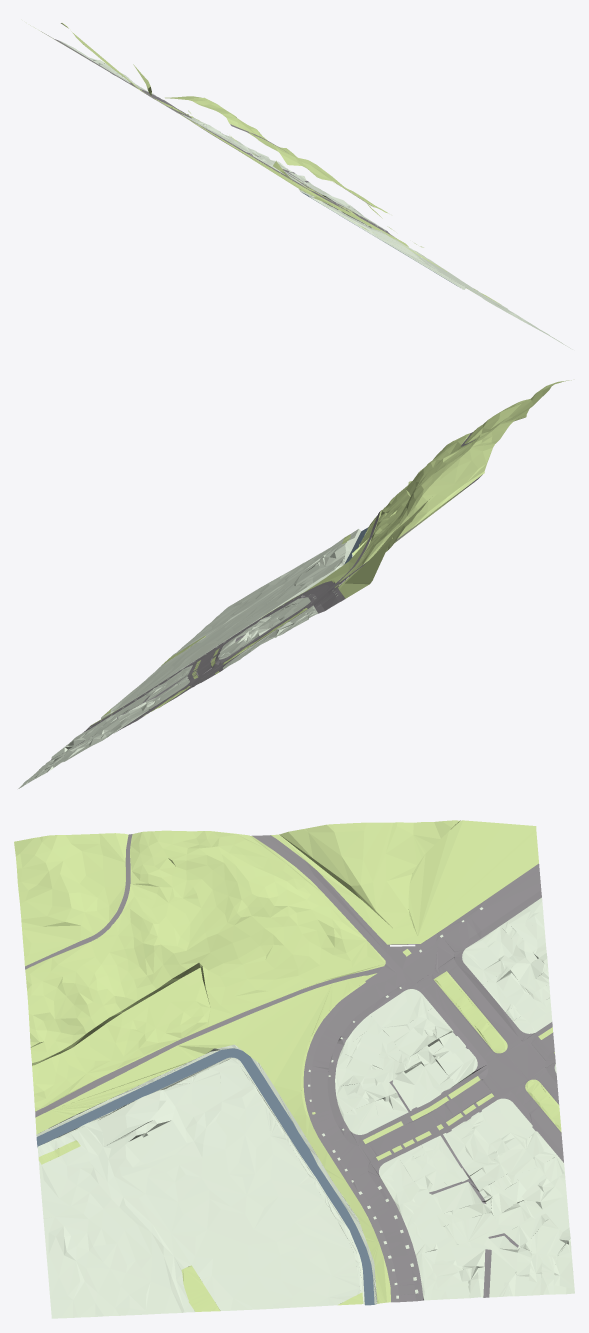
3 views of the same model, one above another, from view 1: azimuth 30°, elevation 25°; view 2: azimuth 150°, elevation 25°; view 3: azimuth 270°, elevation 25° (orthographic). The views are drawn at different scales.
Bounding box in the file's own units: 216 × 166 × 267.
